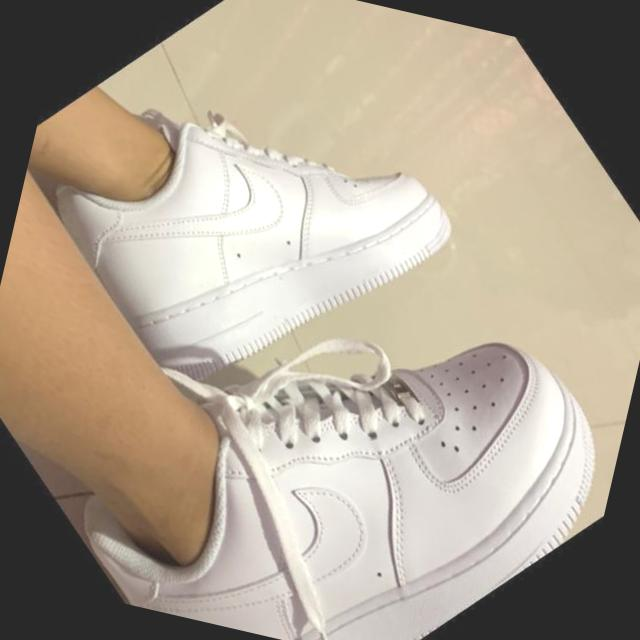nike_original_airforce: (5, 117, 640, 640), (0, 0, 522, 483)
